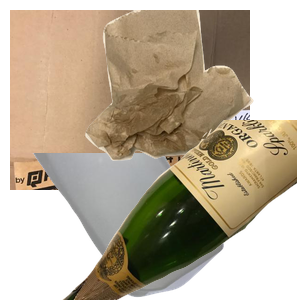cardboard: (10, 10, 250, 190)
glass: (60, 120, 300, 300)
plastic: (29, 153, 245, 300)
trash: (83, 10, 300, 163)
